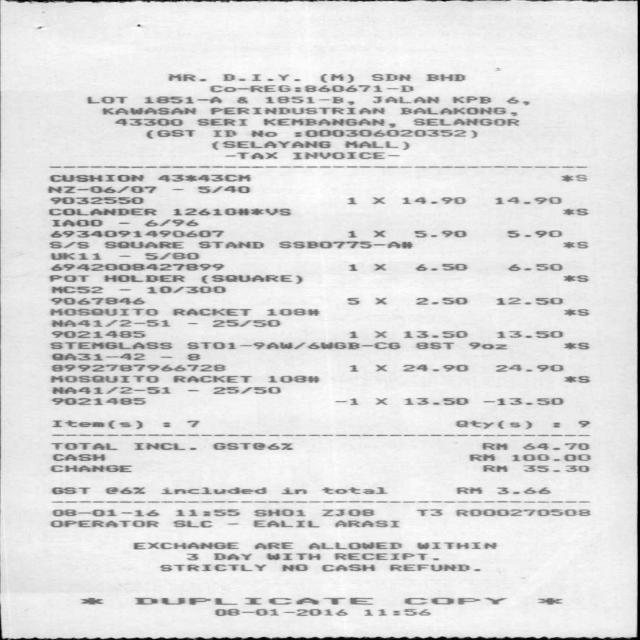text: (48, 363, 224, 374), (132, 597, 370, 605), (48, 228, 224, 238), (47, 262, 225, 271), (184, 342, 398, 349), (292, 130, 475, 138), (208, 85, 412, 92), (210, 107, 382, 115), (262, 118, 394, 128), (209, 141, 329, 150), (276, 240, 411, 248), (400, 107, 516, 116), (48, 341, 170, 349), (48, 195, 144, 205), (49, 386, 169, 394), (49, 319, 168, 327), (50, 329, 145, 339), (453, 509, 588, 516), (214, 609, 346, 616), (200, 275, 301, 284), (48, 375, 156, 383), (48, 520, 156, 528), (50, 509, 157, 517), (411, 118, 517, 126), (333, 552, 437, 560), (50, 420, 142, 429), (172, 208, 290, 215), (263, 96, 353, 105), (46, 296, 145, 304), (48, 396, 146, 404), (46, 186, 155, 193), (47, 308, 156, 315), (48, 208, 156, 215), (48, 174, 142, 182), (290, 152, 397, 159), (130, 542, 237, 549), (101, 107, 194, 115), (50, 353, 143, 361), (158, 487, 264, 494), (158, 564, 264, 571), (157, 174, 249, 182), (308, 542, 399, 550), (403, 597, 505, 604), (48, 464, 134, 472), (144, 95, 220, 104), (454, 420, 530, 429), (102, 241, 182, 249), (145, 286, 225, 294), (482, 397, 562, 405), (211, 442, 291, 450), (171, 375, 250, 383), (388, 564, 478, 571), (172, 308, 249, 316), (222, 73, 298, 81), (343, 141, 407, 150), (102, 275, 182, 282), (509, 454, 589, 461), (416, 542, 495, 549), (113, 118, 182, 126), (210, 319, 279, 327), (211, 386, 279, 394), (520, 442, 588, 450), (495, 297, 562, 305), (495, 364, 562, 372), (362, 608, 429, 616), (493, 196, 559, 204), (196, 241, 262, 249), (50, 442, 116, 450), (253, 520, 318, 528), (333, 520, 397, 528), (402, 196, 464, 204), (133, 442, 195, 450), (145, 129, 194, 139), (48, 453, 107, 461), (372, 96, 438, 103), (496, 331, 561, 338), (522, 465, 587, 472), (173, 509, 238, 516), (506, 263, 562, 271), (402, 331, 466, 338), (402, 364, 466, 371), (402, 398, 466, 405), (322, 487, 386, 494), (505, 230, 560, 238), (144, 252, 198, 260), (264, 552, 318, 560), (48, 286, 101, 294), (49, 219, 101, 227), (414, 297, 466, 305), (265, 308, 317, 316), (414, 263, 465, 271), (266, 375, 317, 383), (253, 508, 304, 516), (196, 118, 246, 126), (49, 252, 99, 260), (144, 219, 197, 226), (496, 487, 549, 494), (196, 186, 248, 193), (413, 230, 465, 237), (320, 509, 372, 516), (321, 564, 373, 571), (225, 152, 276, 159), (450, 95, 489, 104), (86, 96, 126, 104), (345, 297, 385, 305), (425, 73, 464, 81), (48, 241, 87, 249), (346, 263, 385, 271), (318, 74, 352, 83), (167, 73, 205, 81), (347, 364, 385, 372), (172, 520, 210, 528), (213, 552, 250, 560), (369, 74, 409, 81), (466, 342, 506, 349), (48, 275, 87, 282), (413, 342, 452, 349), (105, 487, 144, 494), (49, 487, 88, 494), (253, 542, 292, 549), (347, 197, 383, 204), (348, 331, 384, 338), (348, 230, 383, 237), (466, 453, 493, 461), (504, 96, 527, 105), (562, 208, 587, 216), (481, 442, 506, 450), (563, 308, 587, 316), (563, 342, 587, 350), (416, 508, 440, 516), (249, 130, 276, 137), (559, 174, 585, 181), (562, 275, 588, 282), (279, 487, 305, 494), (481, 465, 506, 472), (281, 564, 306, 571), (210, 130, 234, 137), (564, 376, 588, 383), (456, 487, 480, 494), (334, 398, 357, 405), (562, 242, 587, 248), (186, 353, 199, 361), (374, 398, 386, 405), (576, 420, 588, 427), (186, 420, 198, 427), (235, 96, 246, 103), (185, 554, 197, 560), (550, 422, 558, 428), (161, 422, 168, 427), (186, 389, 198, 391), (226, 523, 237, 525)
